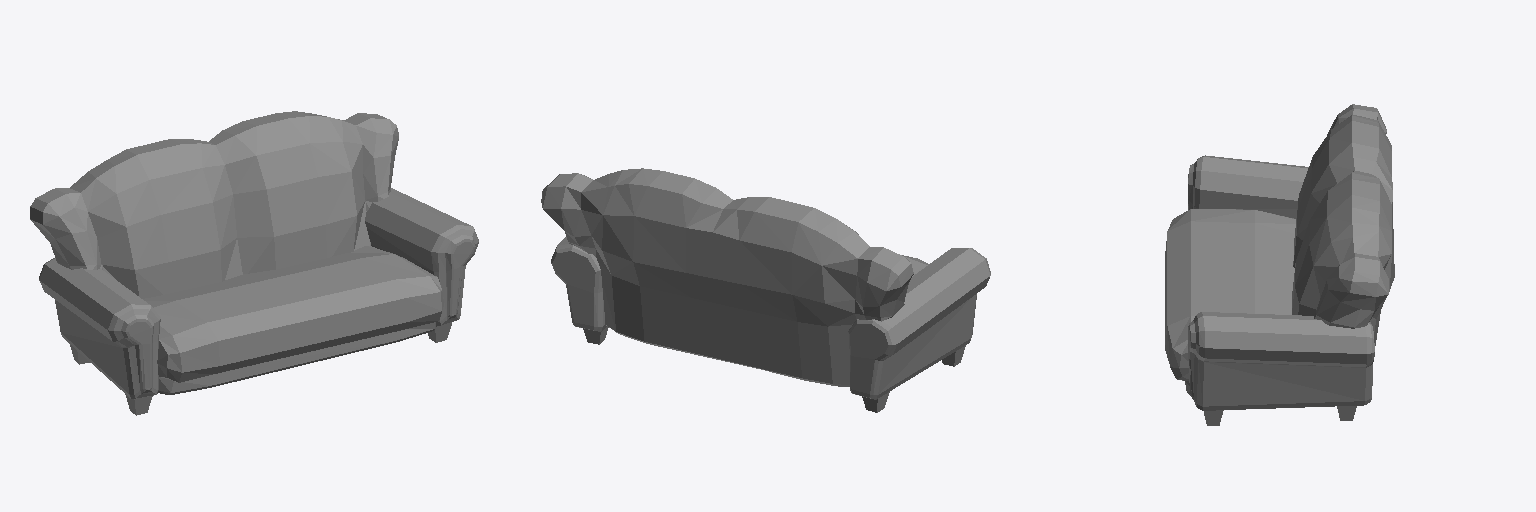
File: Sofa.obj
3 renders of one model, left to right at view 1: azimuth 30°, elevation 25°; view 2: azimuth 150°, elevation 25°; view 3: azimuth 270°, elevation 25°, orthographic.
Visible parts, largest first — view 1: Sofa; view 2: Sofa; view 3: Sofa.
Boxes of the visible parts, x1=… form: Sofa: x1=30, y1=111, x2=478, y2=415; Sofa: x1=541, y1=168, x2=990, y2=412; Sofa: x1=1165, y1=104, x2=1394, y2=425.
Size of the model in its own units: 305 by 149 by 164.